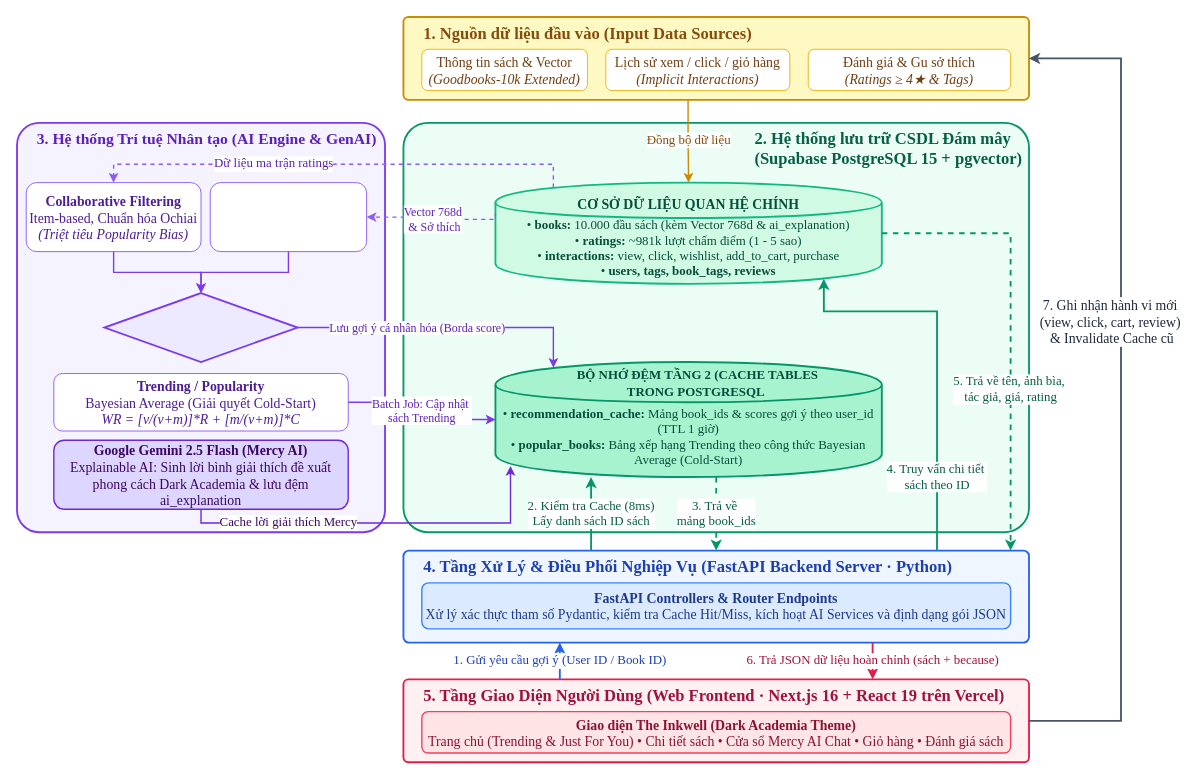
Image size: 1200x778. Some labels were removed from this diagram. The centre of each missing label's shape, as x and y in pixels:
Content-Based pgvector Cosine <=> (Vector Embedding 768d): the point at 288,217
Hybrid Aggregator Borda Count Fusion (Trọng số α = 0.5): the point at 200,327
